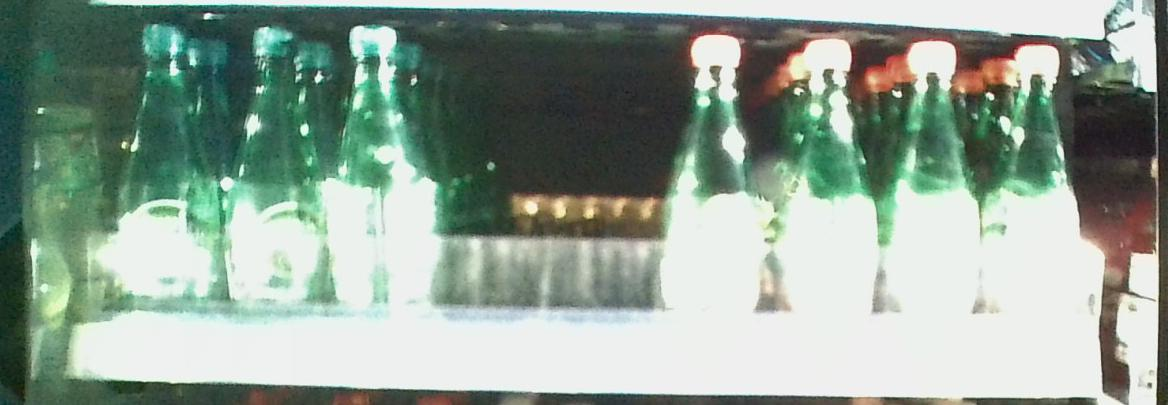bottle: (326, 20, 425, 312), (121, 24, 221, 312), (778, 38, 880, 314), (665, 34, 763, 309), (887, 34, 980, 312), (227, 25, 318, 309), (990, 33, 1081, 315)
